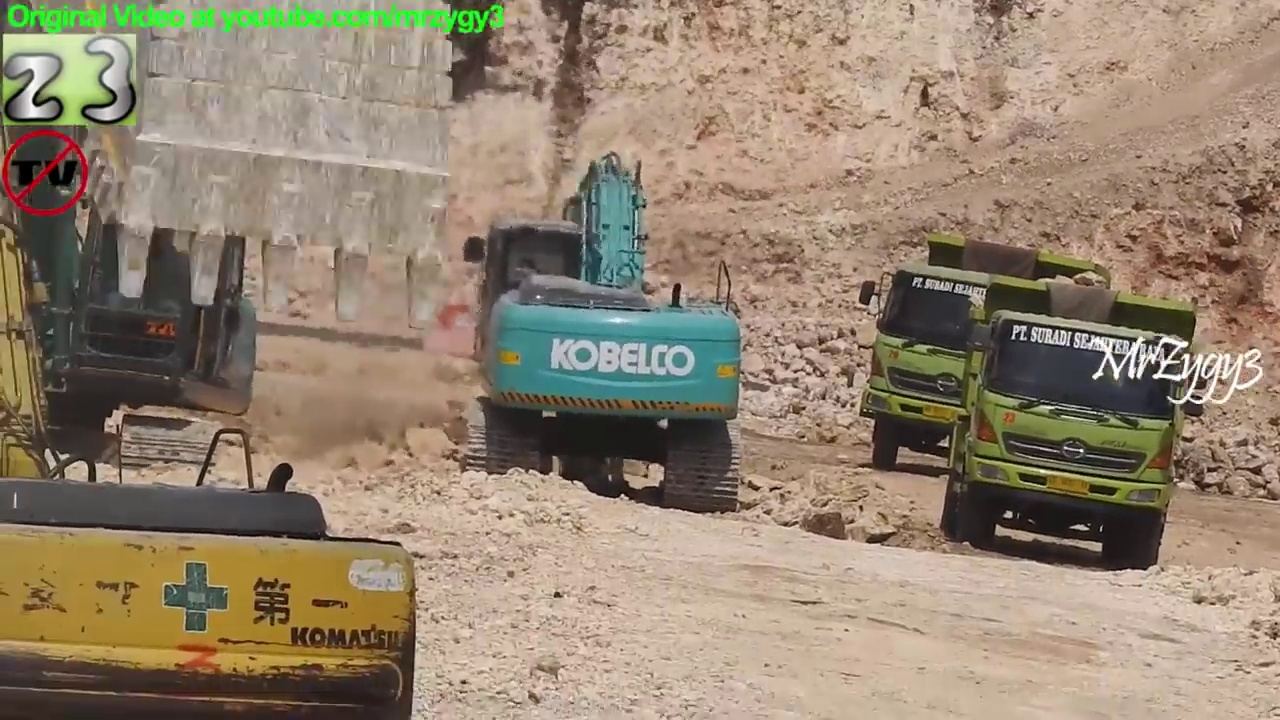excavator: (1, 1, 427, 720), (33, 1, 464, 343), (1, 1, 269, 482), (444, 144, 754, 517)
truck: (934, 265, 1213, 576), (853, 230, 1136, 485)
